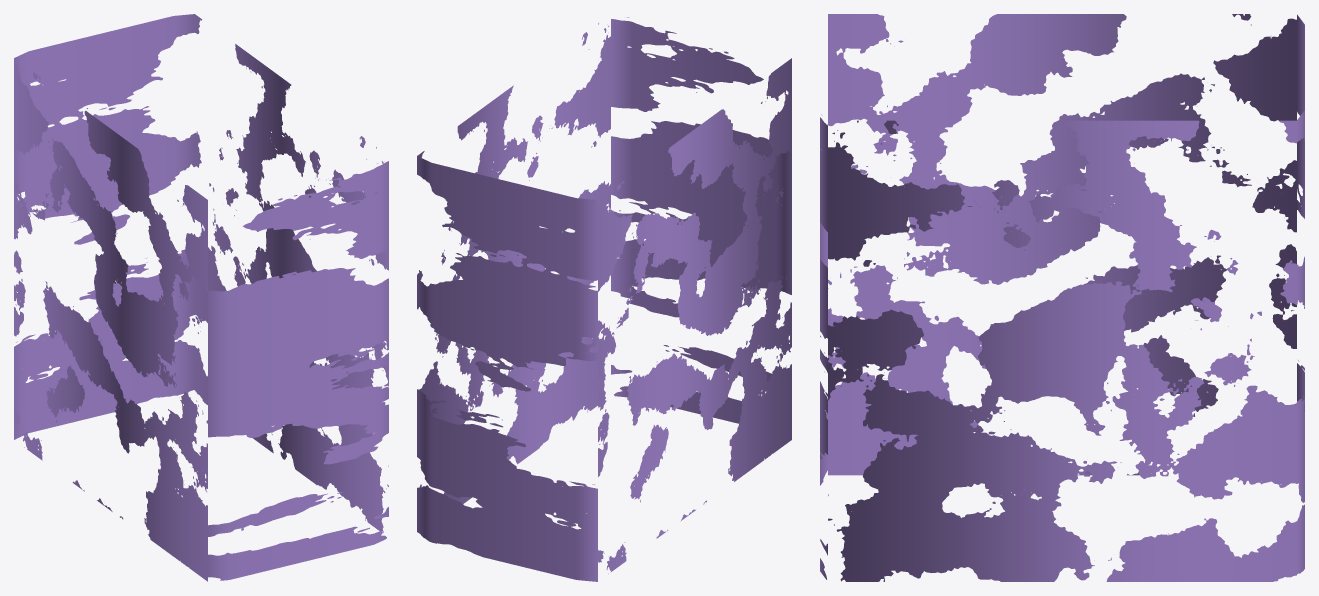
File: MistWall.fbx
The picture shows the model from 3 angles, left to right: view 1: azimuth 30°, elevation 25°; view 2: azimuth 150°, elevation 25°; view 3: azimuth 270°, elevation 25°; orthographic projection. The views are drawn at different scales.
Visible parts, largest first — view 1: Mist2; view 2: Mist2; view 3: Mist2.
Boxes of the visible parts, box(x1,y1,x2,y2) form: Mist2: box(14, 14, 388, 581); Mist2: box(417, 17, 791, 581); Mist2: box(820, 14, 1304, 581).
Bounding box in the file's own units: 312 × 630 × 600.
